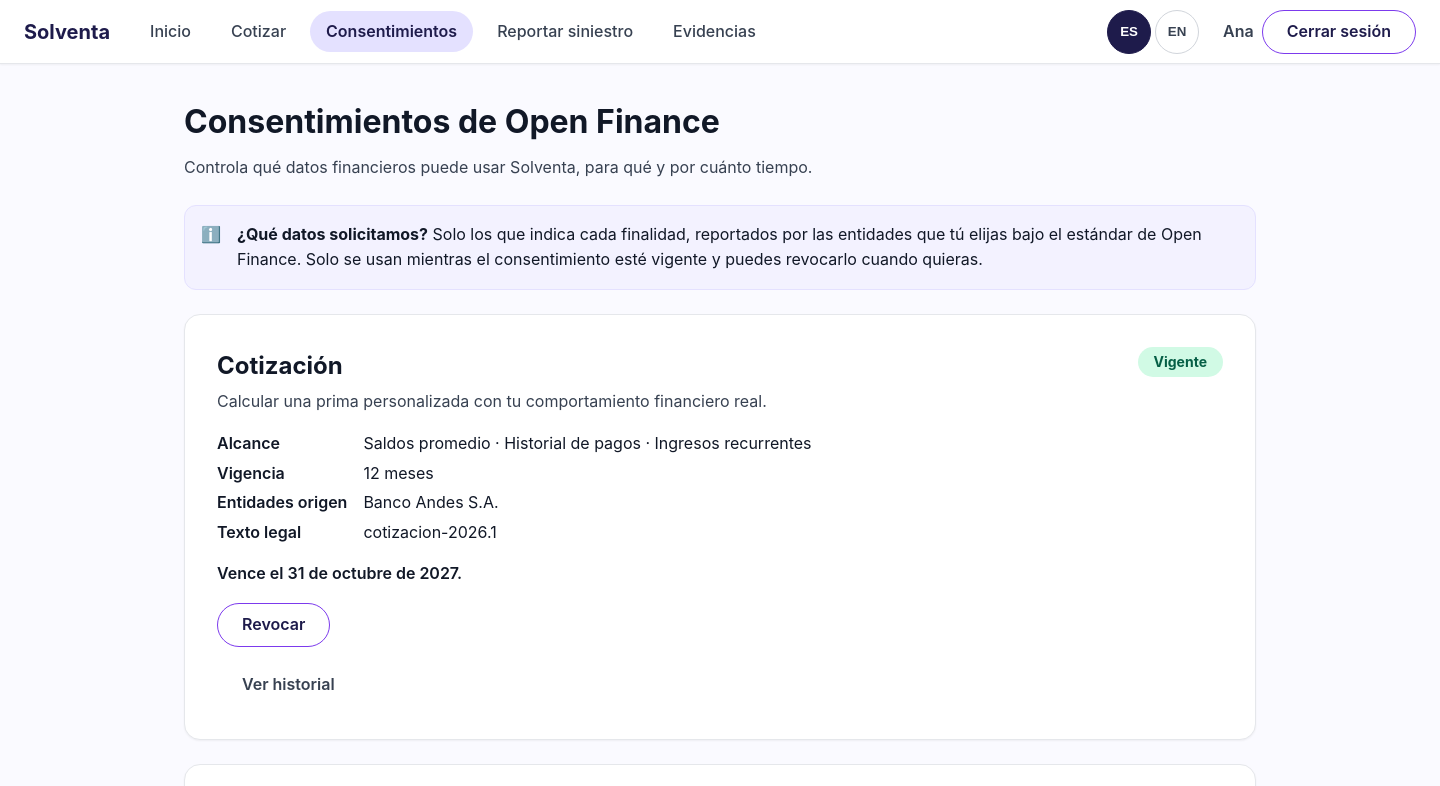
Test: Consentimientos de Open Finance (WEB-F02) › criterios 9 y 3: revocar explica la consecuencia, pide confirmación y cambia de inmediato › confirma antes de revocar y deja el estado Revocado
Expected: the element "Cotización" is shown, [184,314,1256,740]
Click the button "Revocar" at (274, 625), box [217,603,330,647]
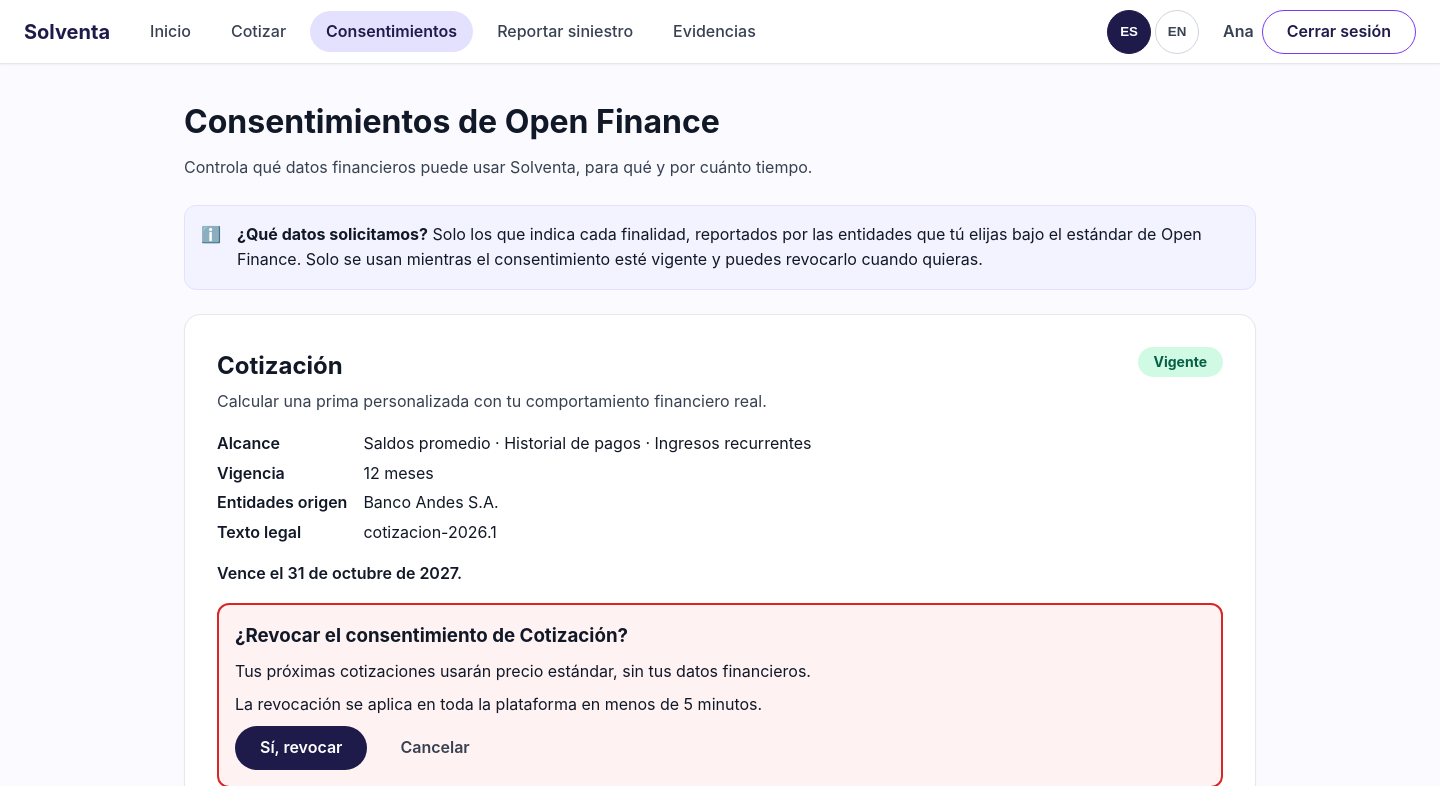
Expected: the element "¿Revocar el consentimiento de Cotización?" shows "Tus próximas cotizaciones usarán precio estándar", [235,661,811,681]
Expected: the element "¿Revocar el consentimiento de Cotización?" shows "menos de 5 minutos", [235,694,762,714]
Click the button "Sí, revocar" at (301, 748), box [235,726,367,770]
(page scrolled)
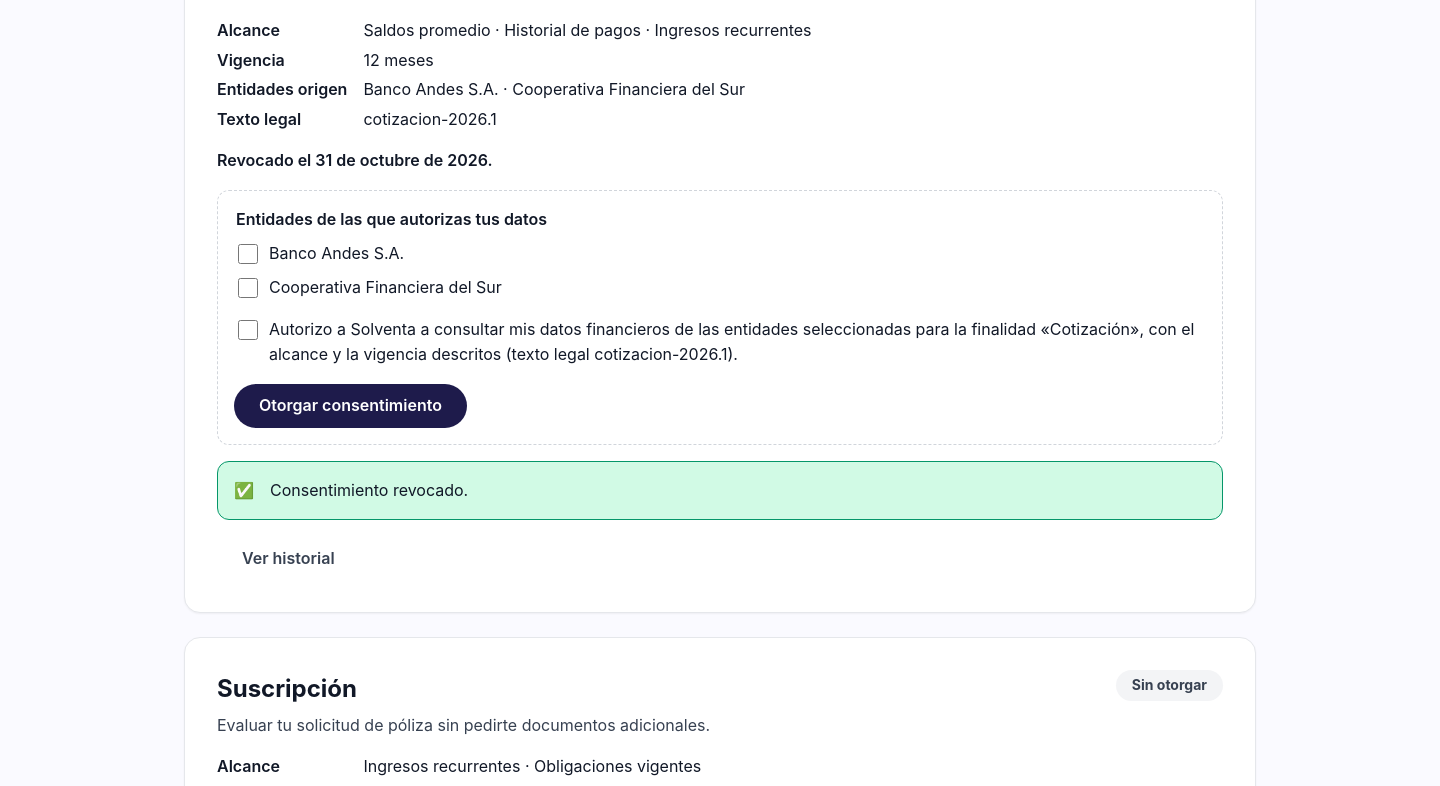
Expected: the message shows "Consentimiento revocado.", [270,480,468,500]
Expected: the text "Revocado el 31 de octubre de 2026." is shown, [217,150,493,170]
Expected: the button "Otorgar consentimiento" is shown, [234,384,467,428]
